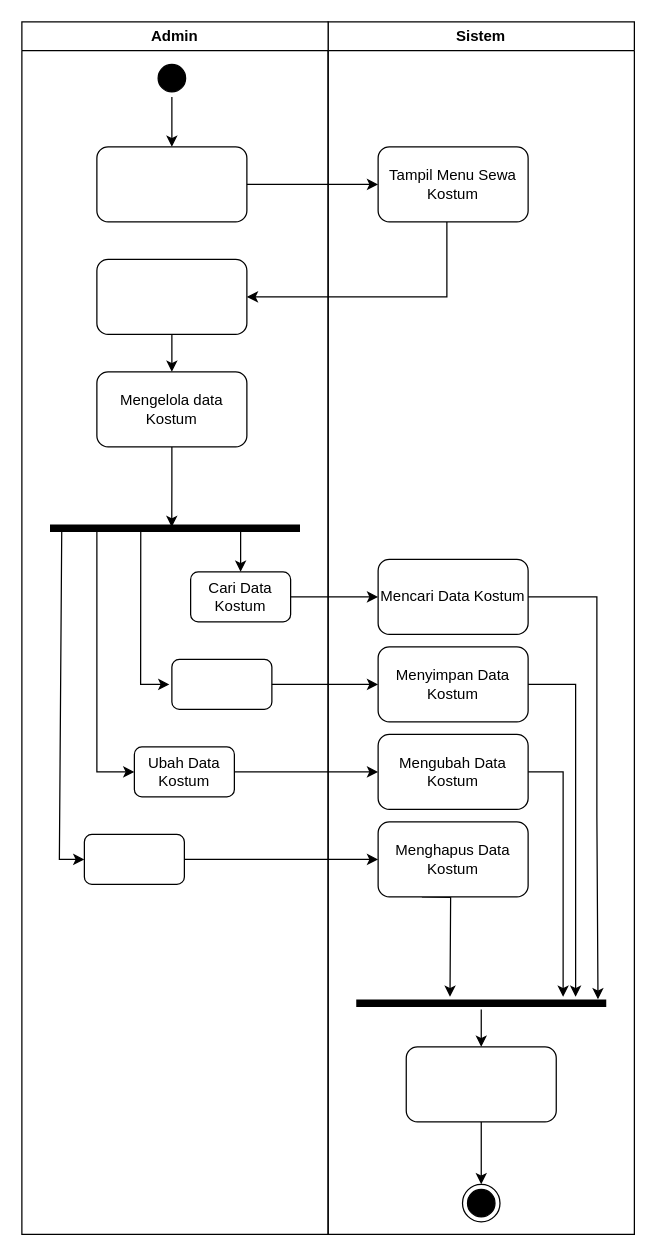
The diagram is 656 pixels wide and 1256 high, and some of its shapes have lost their labels. Here are the shapes that lost their labels. From the top down, the centre of each, then its label:
At pixel 171 184: "Pilih Menu Sewa Kostum".
At pixel 171 296: "Melihat Data Kostum".
At pixel 221 683: "Simpan Data Kostum".
At pixel 133 858: "Hapus Data Kostum".
At pixel 480 1084: "Simpan Perubahan".
